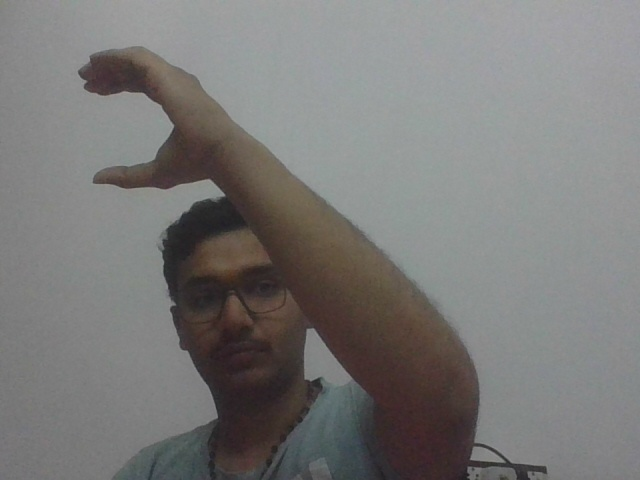C: (75, 43, 243, 194)
